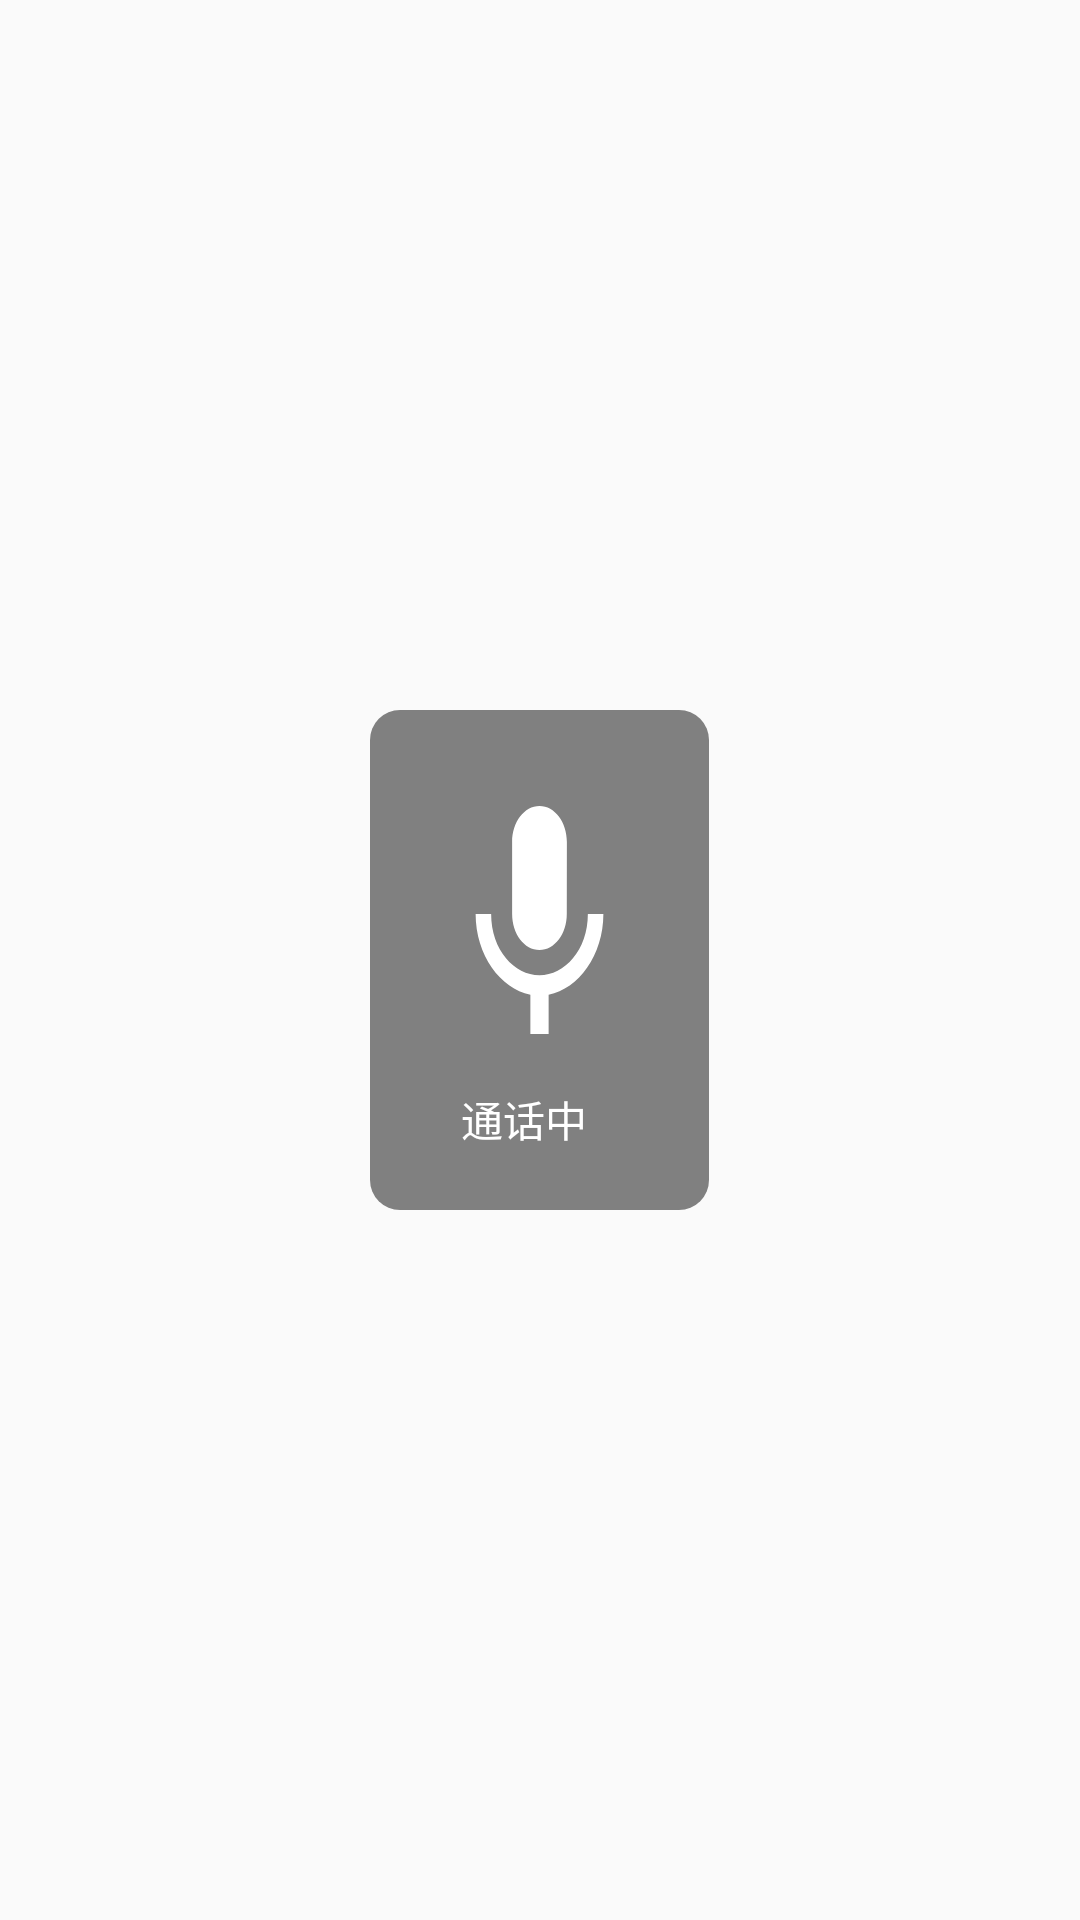

Named icons in this screenshot (1080px x 1920px) and their centers, point (x, y):
keyboard voice: point (539, 920)
